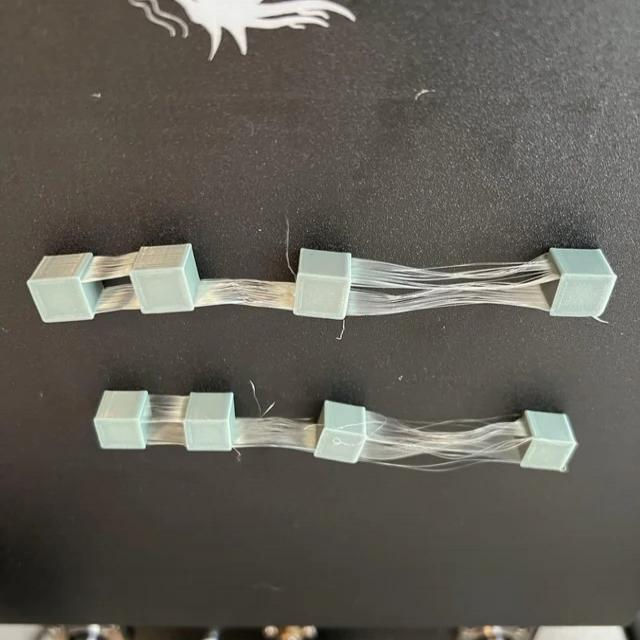Stringing: (343, 255, 570, 319), (356, 405, 533, 472), (192, 278, 300, 314), (232, 416, 318, 453), (146, 395, 184, 422)
